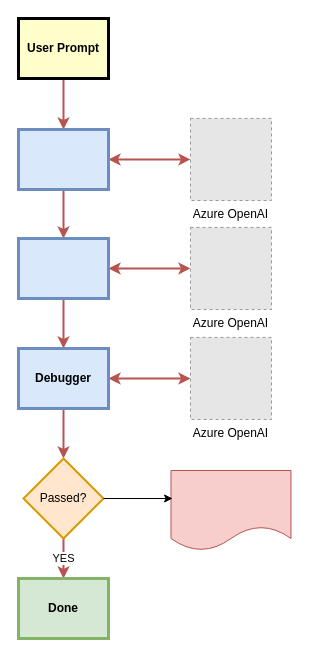
Image size: 309x657. Some labels were removed from this diagram. Grey dashed boxes stand in for pictures. The centre of each missing label's shape, as x and y in pixels:
Developer: the point at 63,159
Test failed: the point at 230,510
Tester: the point at 63,268
